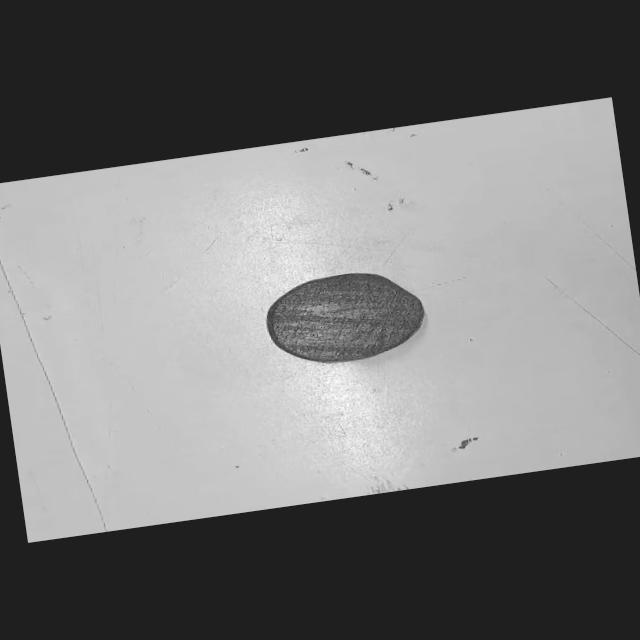bcircle: (259, 262, 433, 372)
